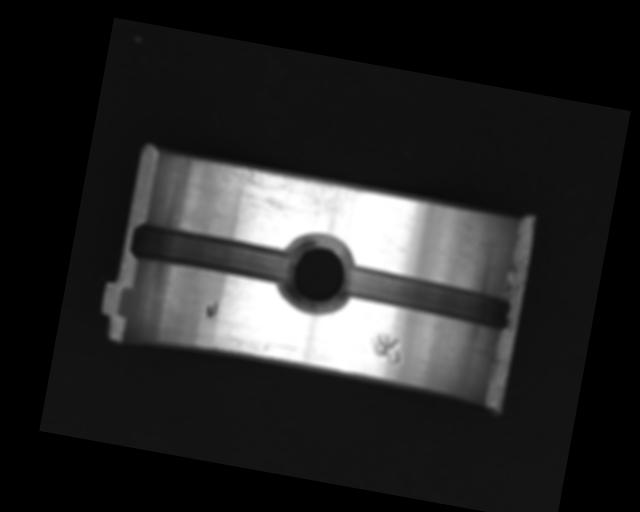blot: (204, 298, 217, 319)
bruise: (368, 332, 404, 366)
gap: (342, 263, 515, 334), (127, 221, 294, 287)
hole: (275, 228, 361, 320)
scratch: (209, 163, 370, 235)
